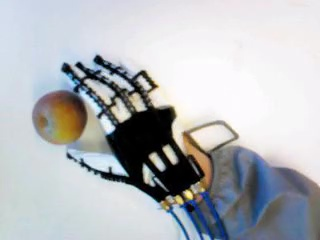apple: (31, 90, 86, 144)
hand: (61, 53, 202, 211), (31, 90, 86, 144)
